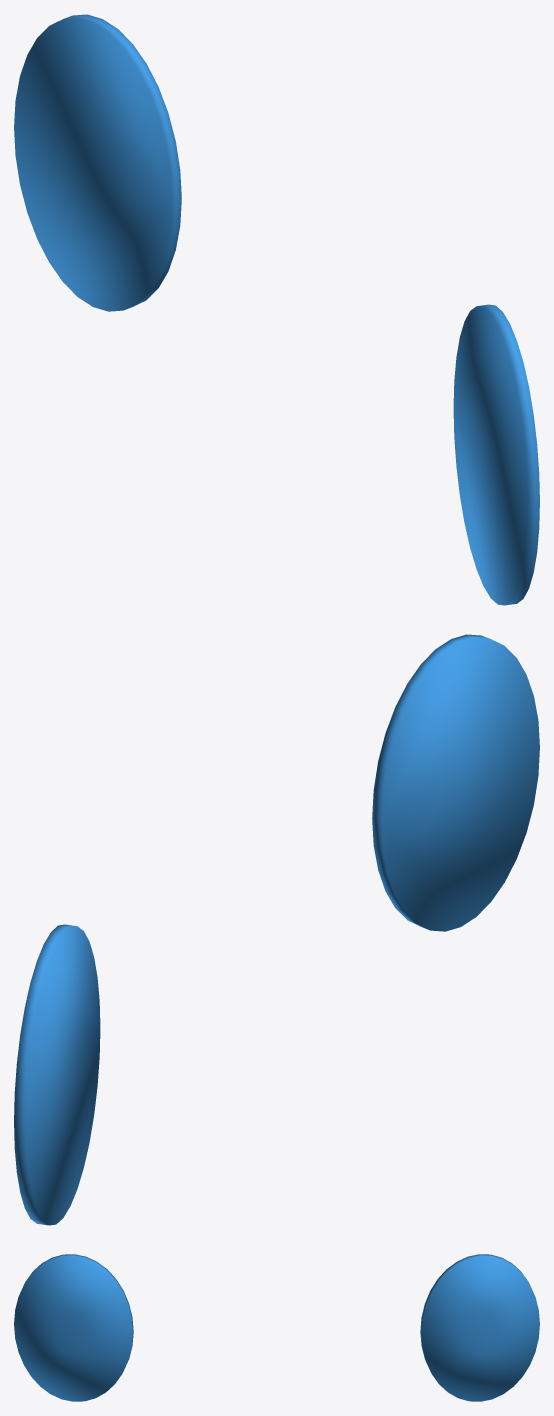
File: Eyes.fbx
The picture shows the model from 3 angles, top to bottom: view 1: azimuth 30°, elevation 25°; view 2: azimuth 150°, elevation 25°; view 3: azimuth 270°, elevation 25°; orthographic projection. The views are drawn at different scales.
Parts seen in each view (by area): view 1: Eye; view 2: Eye; view 3: Eye.
Part boxes in pixels (box(x1,y1,x2,y2)): Eye: box(14, 14, 539, 605); Eye: box(14, 634, 539, 1225); Eye: box(14, 1254, 539, 1401).
Bounding box in the file's own units: 1.55 × 7.95 × 26.17.
